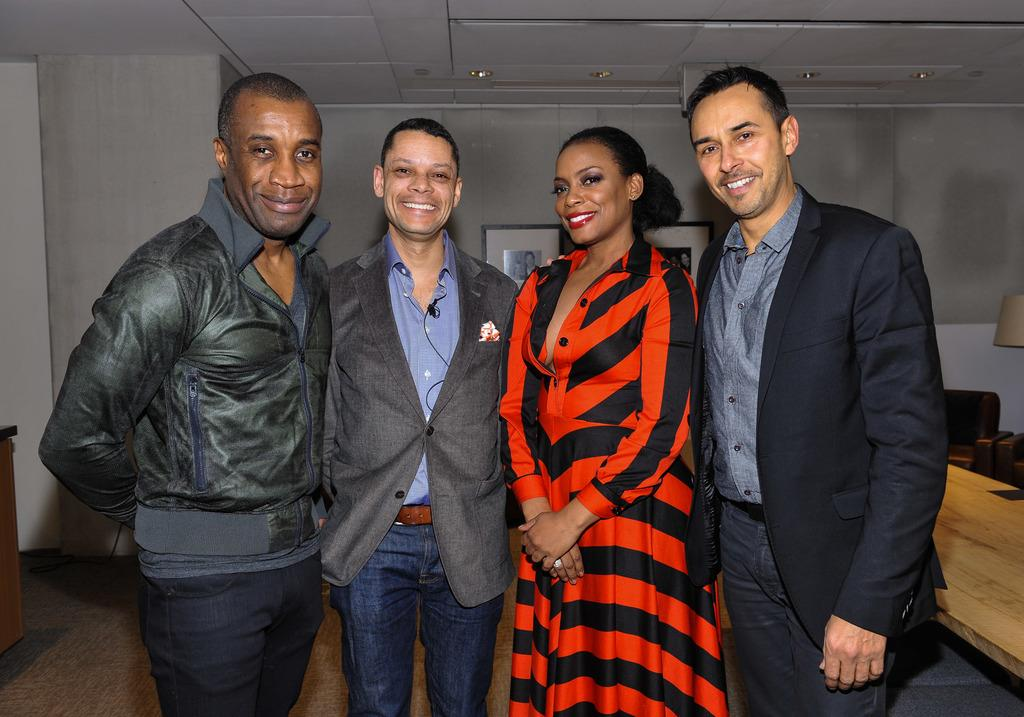Sem Máscara: (223, 97, 319, 232), (688, 91, 782, 213), (380, 126, 458, 230), (555, 136, 623, 238)
